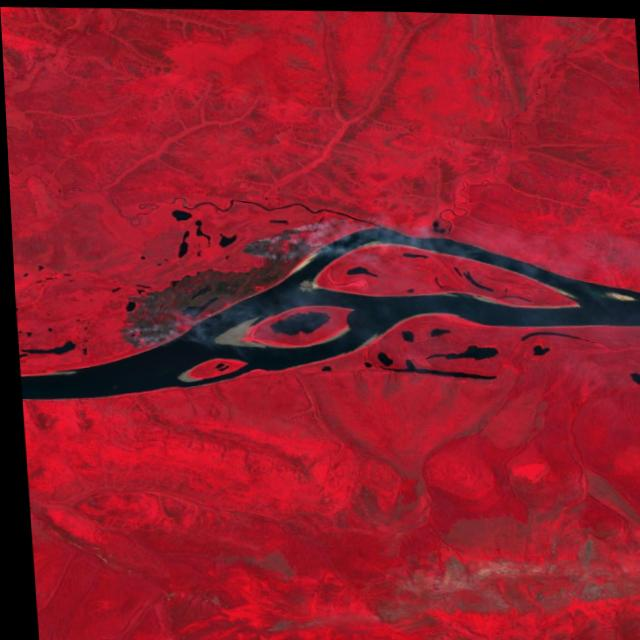fire: (107, 212, 328, 359)
